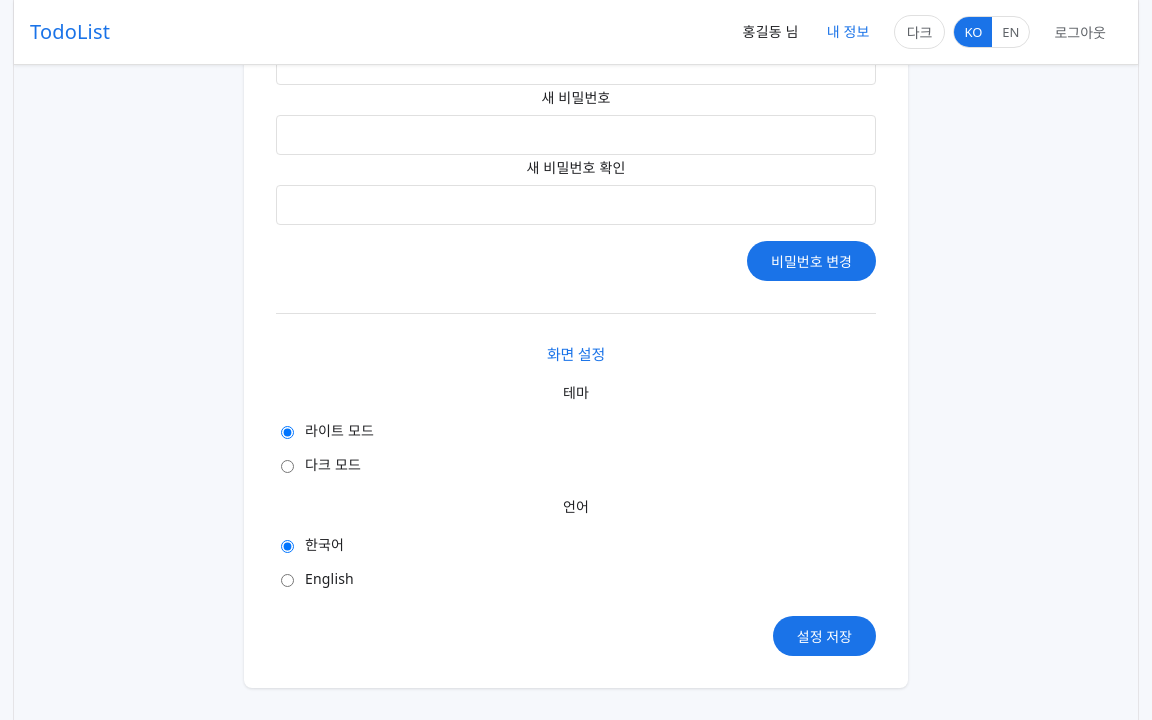
Test: ProfilePage — 화면 설정(테마) › 설정 저장 성공 시 성공 메시지를 표시한다
(page scrolled)
Click the button "설정 저장": point(824, 636) [773,616,876,656]
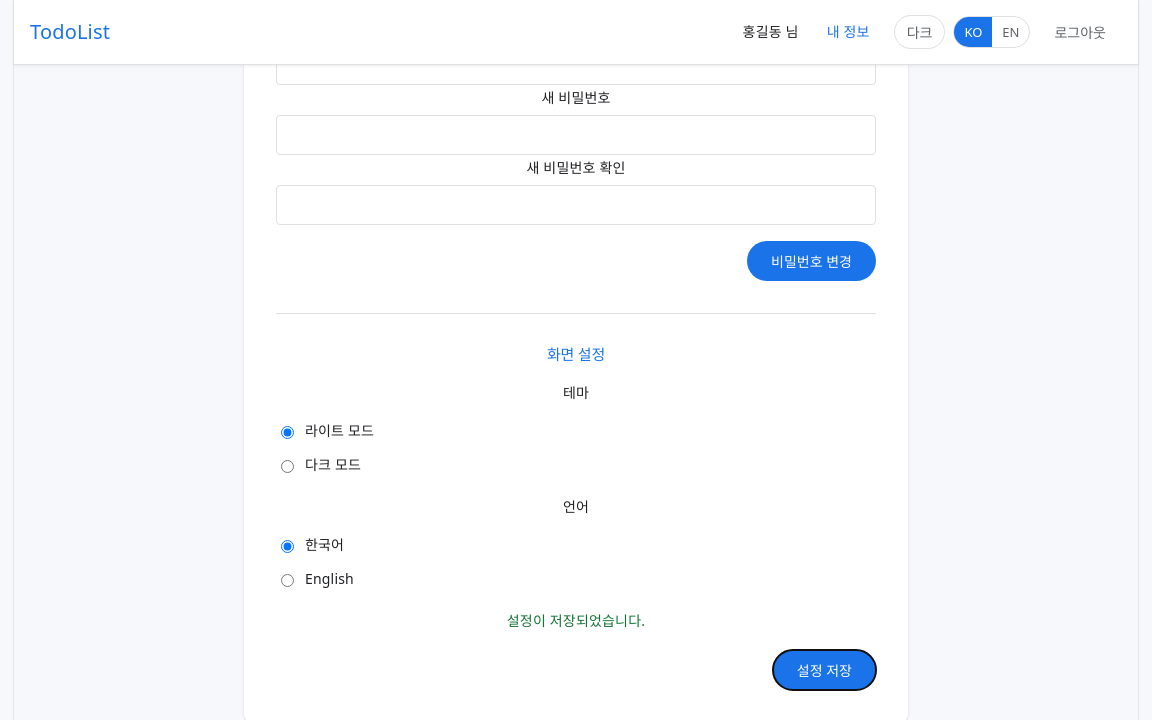
Result: the text "설정이 저장되었습니다." is shown at [507,611,645,630]
